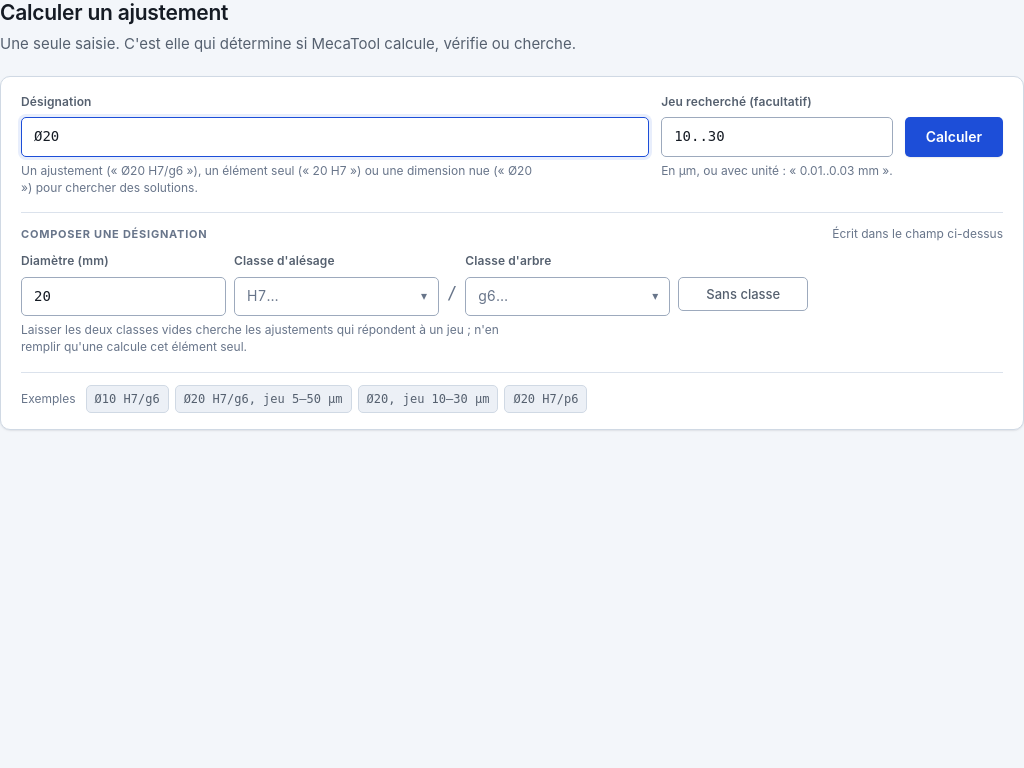
Scenario: écran de calcul › explique une recherche sans solution exacte et rappelle son périmètre
The image size is (1024, 768).
Click the 1st button named "Calculer".
click(954, 137)  # box [905,117,1003,157]
(page scrolled)
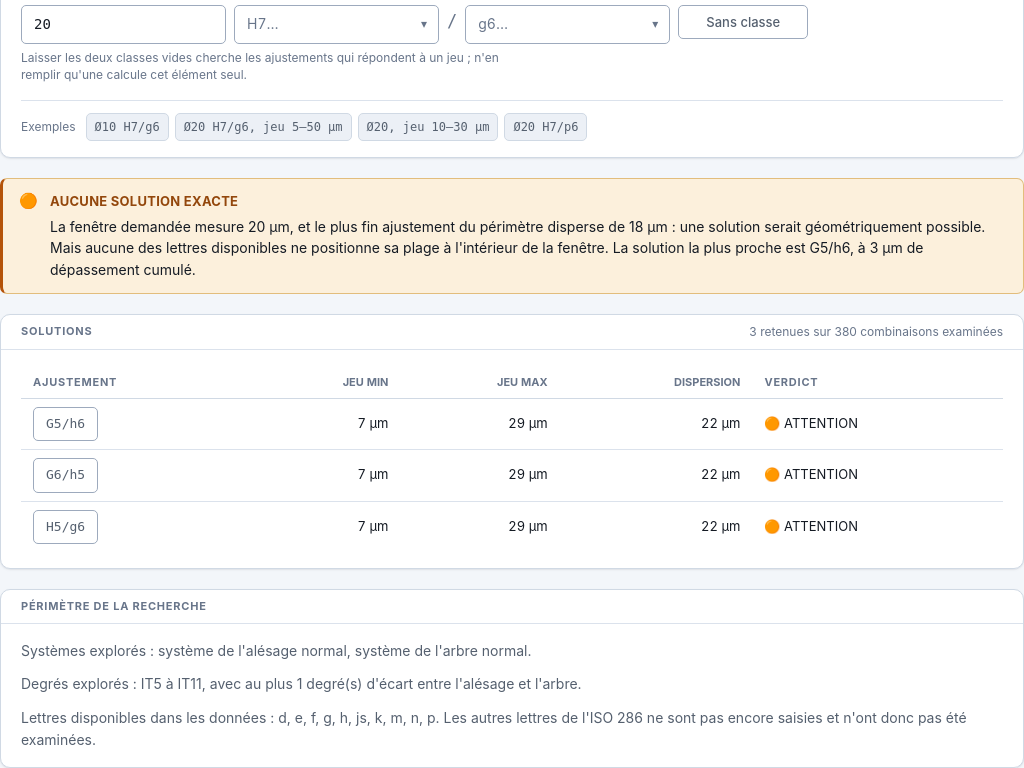
Expected: the 7th text "AUCUNE SOLUTION EXACTE" is shown, [50,193,238,209]
Expected: the 8th text "géométriquement possible" is shown, [50,218,985,278]
